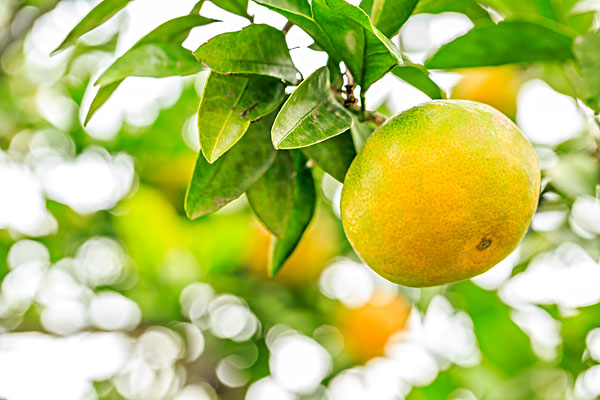orange: (339, 99, 542, 286)
